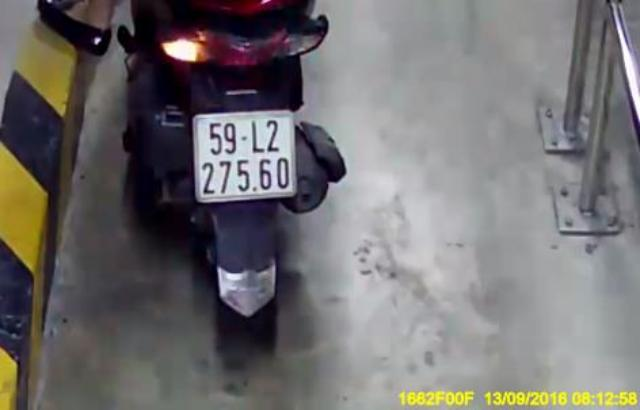plate: (186, 108, 306, 210)
